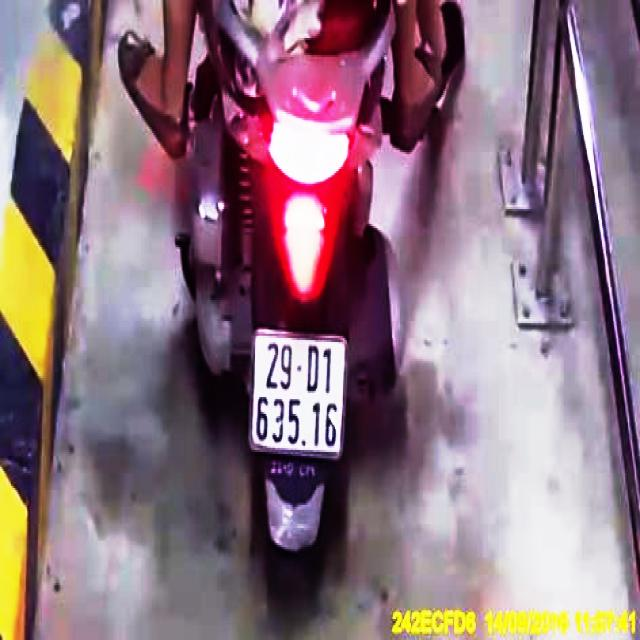license_plate: (251, 330, 350, 457)
